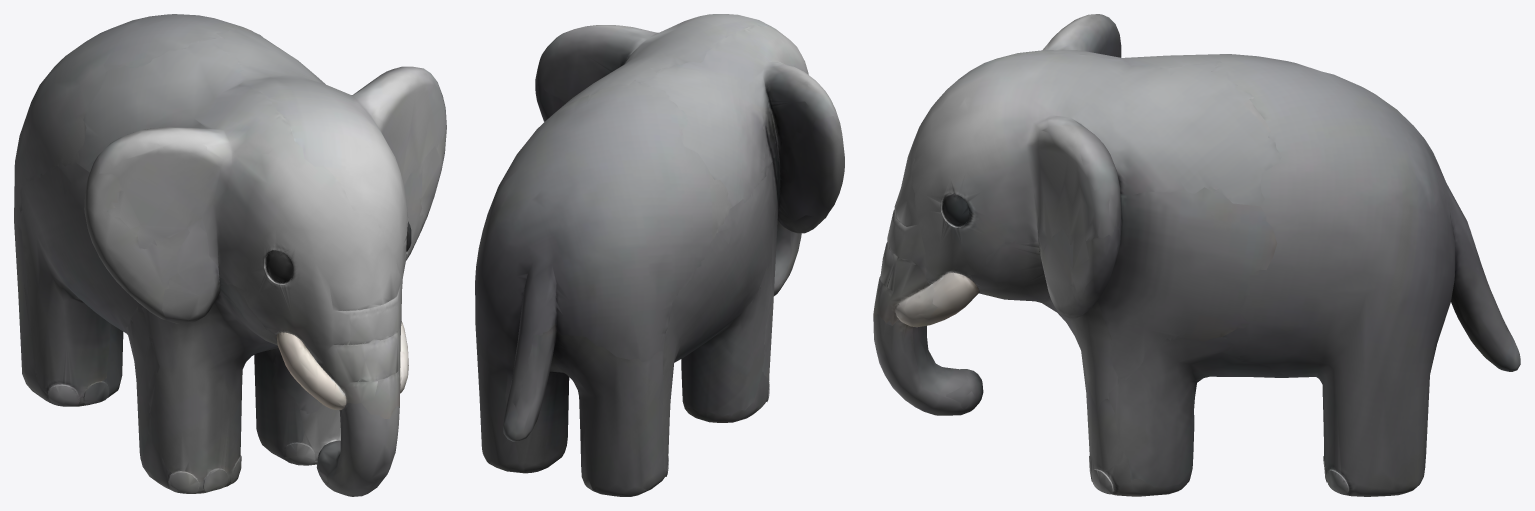
The model's file is elephant_pbr.glb.
3 renders of one model, left to right at view 1: azimuth 30°, elevation 25°; view 2: azimuth 150°, elevation 25°; view 3: azimuth 270°, elevation 25°, orthographic. The views are drawn at different scales.
Parts seen in each view (by area): view 1: model.006; view 2: model.006; view 3: model.006.
Part boxes in pixels (<box>): model.006: <box>14,14,446,496</box>; model.006: <box>475,14,844,496</box>; model.006: <box>873,14,1520,496</box>.
Size of the model in its own units: 1.31 by 1.39 by 2.07.
1 material, 1 textured.
